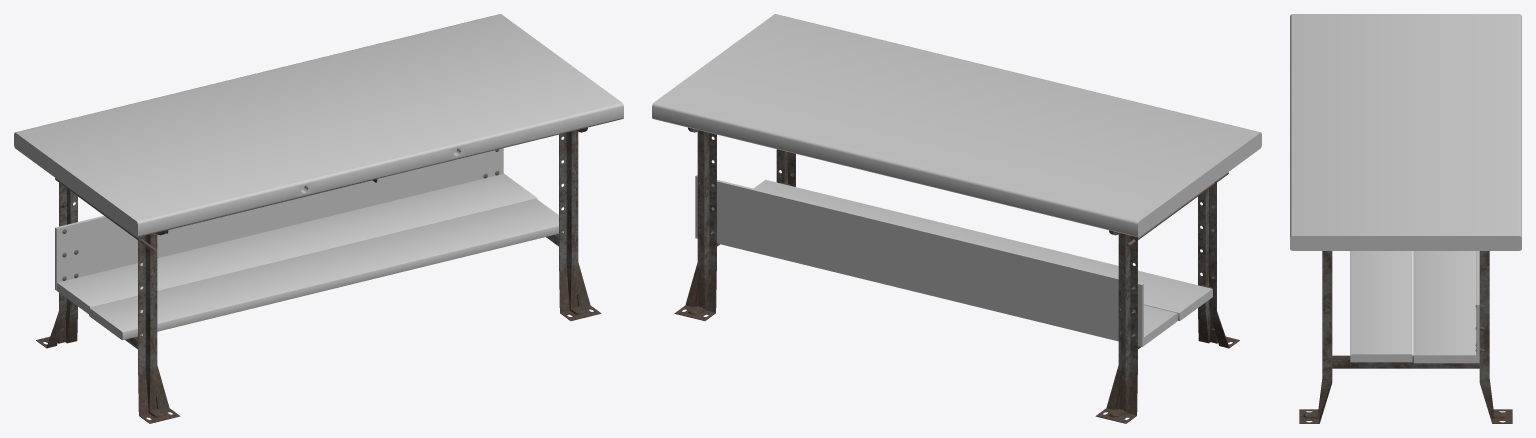
File: Worktable.fbx
The picture shows the model from 3 angles, left to right: view 1: azimuth 30°, elevation 25°; view 2: azimuth 150°, elevation 25°; view 3: azimuth 270°, elevation 25°; orthographic projection. The views are drawn at different scales.
Parts seen in each view (by area): view 1: Wood, Metal; view 2: Wood, Metal; view 3: Wood, Metal.
Part boxes in pixels (x1=…): Wood: x1=14, y1=14, x2=623, y2=340; Metal: x1=36, y1=127, x2=601, y2=423; Wood: x1=652, y1=14, x2=1261, y2=346; Metal: x1=674, y1=127, x2=1239, y2=423; Wood: x1=1290, y1=14, x2=1521, y2=363; Metal: x1=1299, y1=251, x2=1512, y2=423.
Bounding box in the file's own units: 172 × 70.65 × 75.74.
